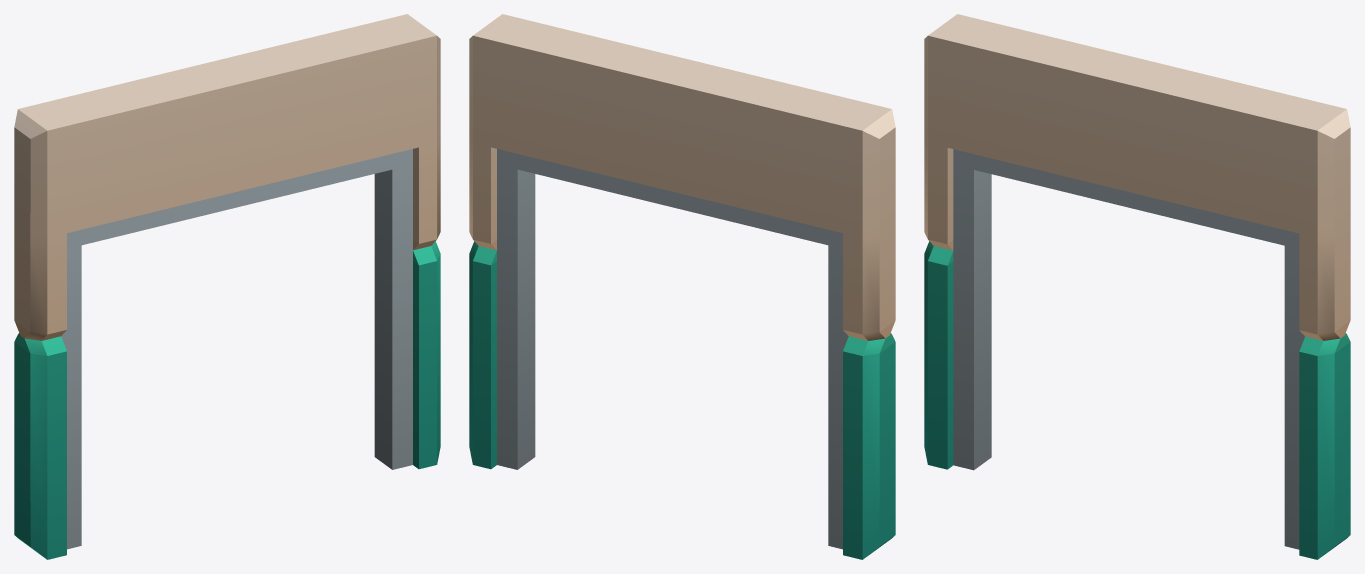
File: wallDoorwayDouble.glb
The picture shows the model from 3 angles, left to right: view 1: azimuth 30°, elevation 25°; view 2: azimuth 150°, elevation 25°; view 3: azimuth 330°, elevation 25°; orthographic projection.
Visible parts, largest first — view 1: wall_doorway; view 2: wall_doorway; view 3: wall_doorway.
Boxes of the visible parts, x1=… form: wall_doorway: x1=14, y1=14, x2=440, y2=559; wall_doorway: x1=469, y1=14, x2=895, y2=559; wall_doorway: x1=924, y1=14, x2=1350, y2=559.
Size of the model in its own units: 4 by 4 by 0.5.
Materials: 1 (1 with a texture image).
